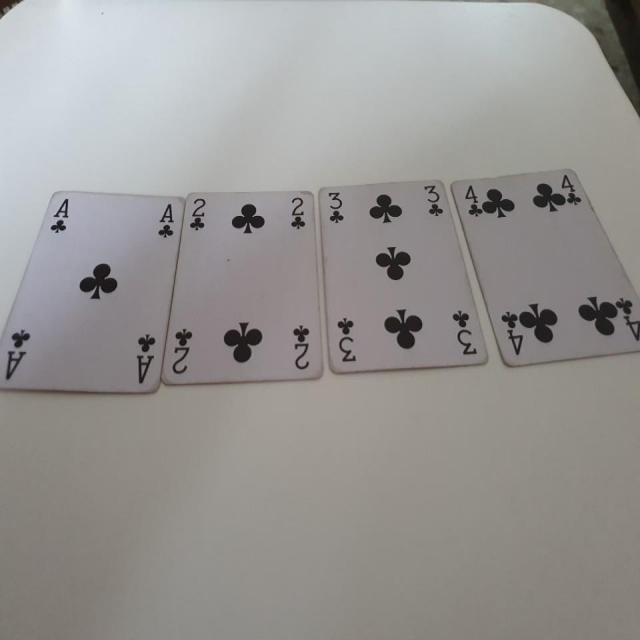2 Trefoils: (160, 189, 325, 386)
3 Trefoils: (316, 176, 489, 376)
4 Trefoils: (448, 167, 640, 369)
A Trefoils: (1, 188, 185, 394)
